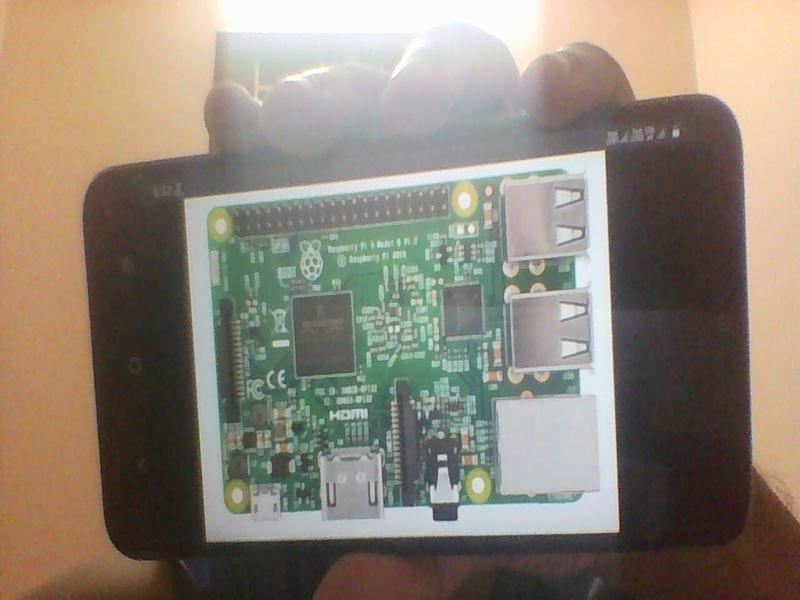aud: (424, 433, 464, 526)
eth: (491, 394, 603, 500)
usb: (501, 289, 598, 377), (497, 173, 592, 260)
